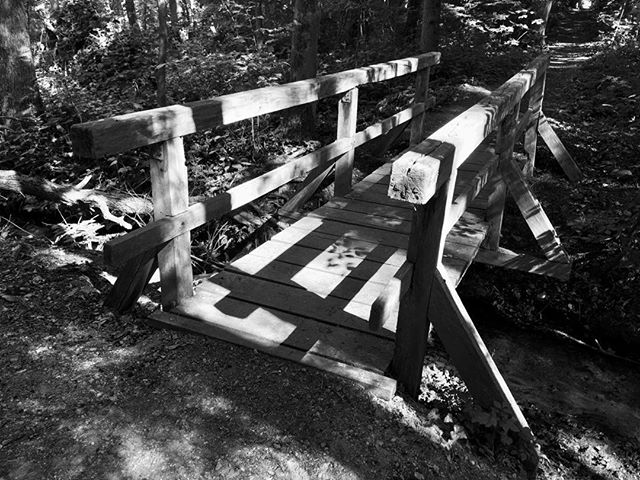bridge: (136, 47, 578, 400)
vegetation: (1, 1, 336, 108)
